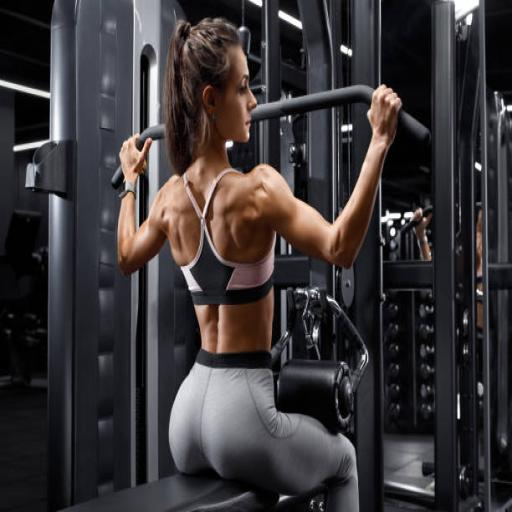Person: (102, 91, 410, 417)
no_gloves: (355, 137, 392, 189), (120, 170, 154, 215)
no_goggle: (208, 140, 258, 164)
no_helmet: (163, 91, 252, 157)
none: (157, 192, 301, 323)
